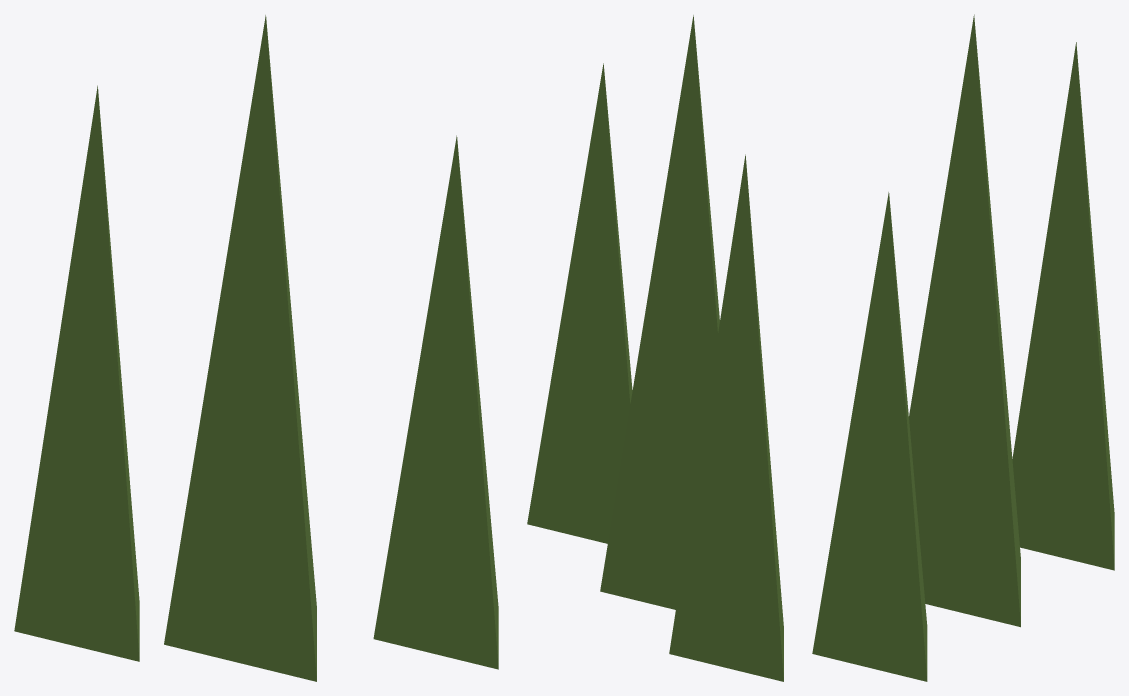
Rendered from grass-tuft.glb.
3 views of the same model, side by side, from view 1: azimuth 30°, elevation 25°; view 2: azimuth 150°, elevation 25°; view 3: azimuth 270°, elevation 25° (orthographic). The views are drawn at different scales.
Parts seen in each view (by area): view 1: tuft; view 2: tuft; view 3: tuft.
Part boxes in pixels (box(x1,y1,x2,y2)): tuft: box(14, 15, 498, 681); tuft: box(527, 15, 783, 681); tuft: box(812, 14, 1114, 681).
Size of the model in its own units: 0.0476 by 0.075 by 0.0355.
